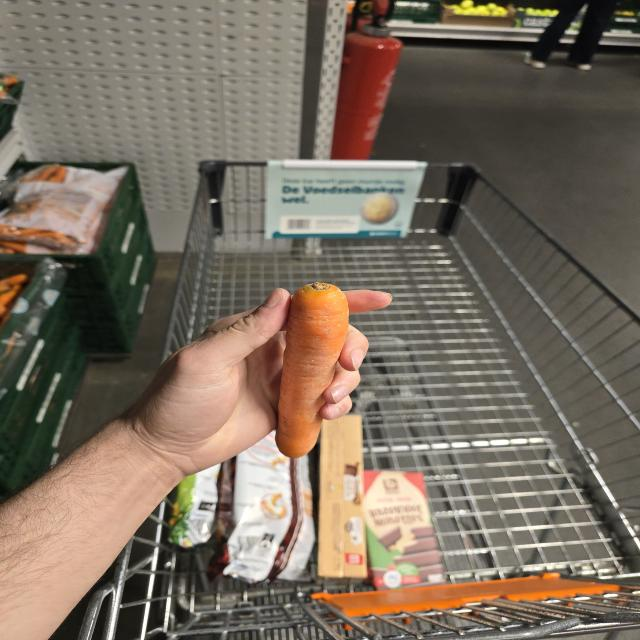Carrot: (276, 283, 348, 458)
